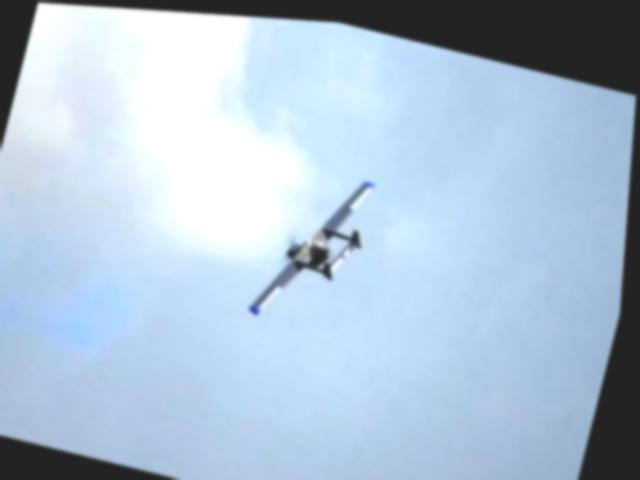uav: (248, 148, 383, 332)
